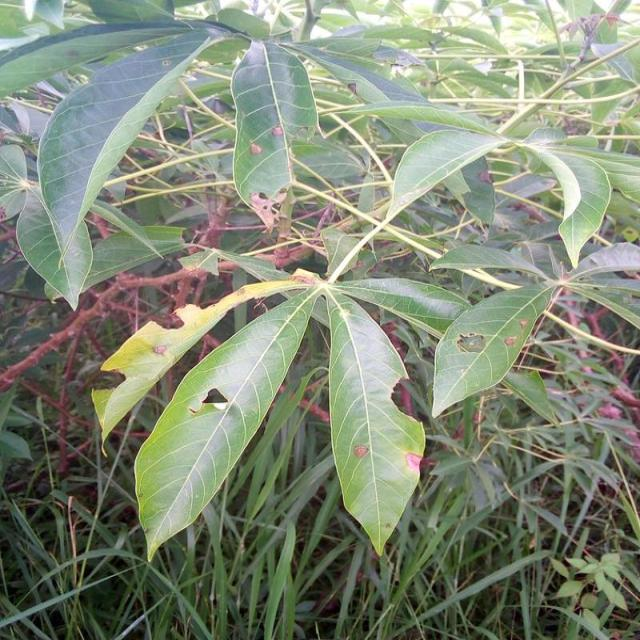cassava leaf: (18, 26, 211, 309), (132, 283, 321, 562), (324, 287, 426, 557), (430, 281, 556, 419), (230, 38, 318, 212)
